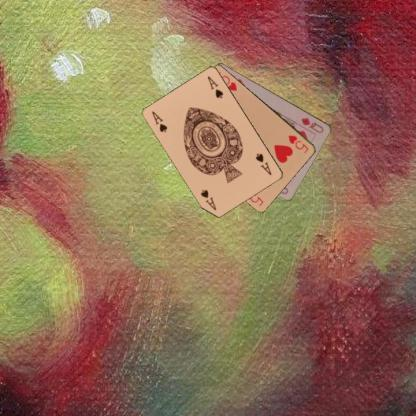5h: (286, 132, 310, 154)
As: (253, 150, 273, 176), (150, 108, 168, 134)
Qd: (298, 115, 326, 134)
